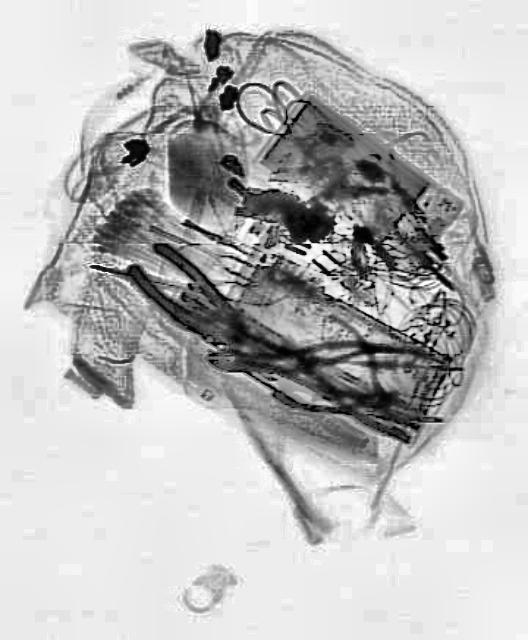Pliers: (120, 228, 272, 372), (203, 322, 393, 412), (279, 329, 433, 415)
